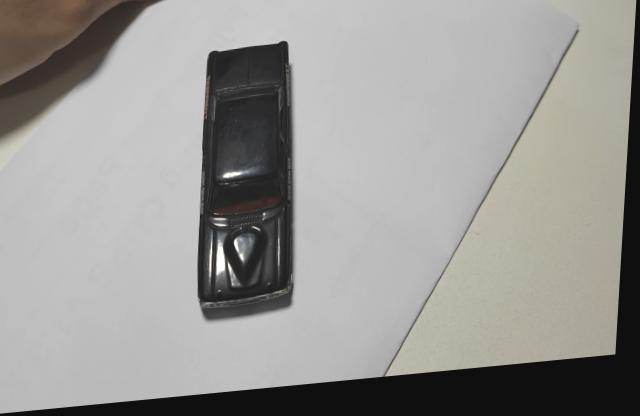01_FORD: (199, 48, 300, 315)
